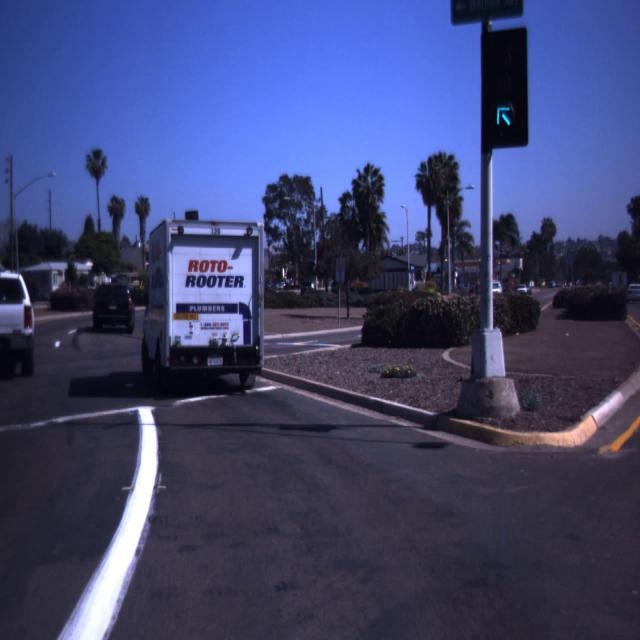yesil: (483, 30, 527, 149)
